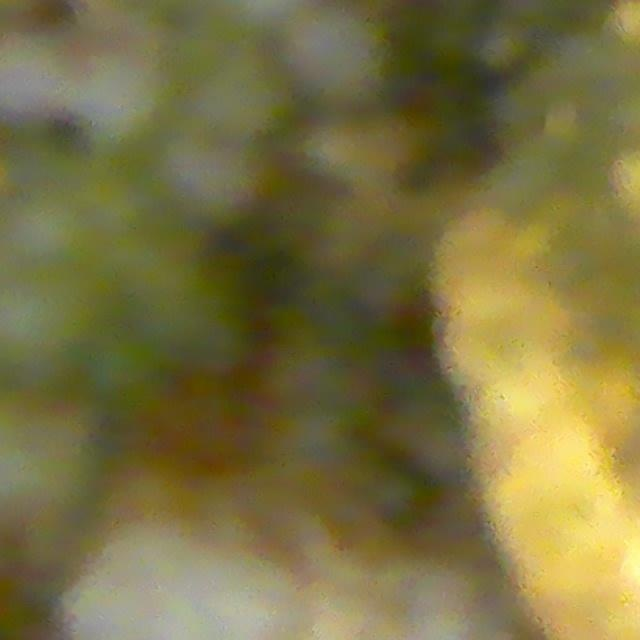SeaGrape: (199, 52, 294, 145)
